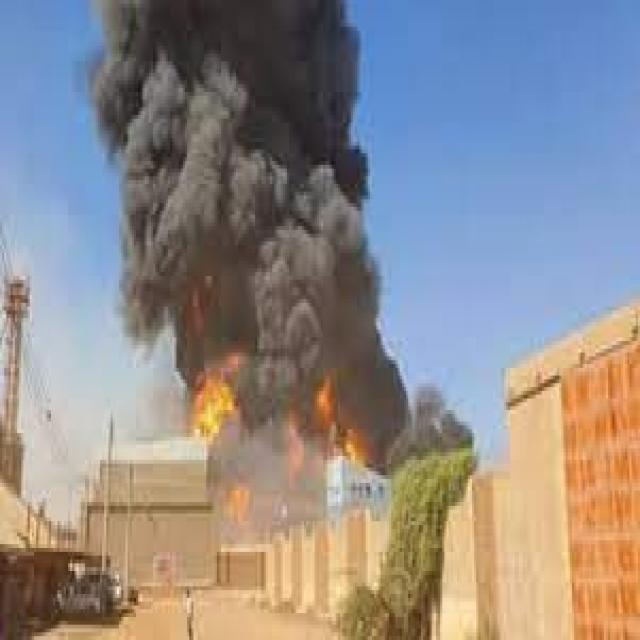fire: (185, 352, 238, 440), (313, 372, 340, 425), (342, 422, 362, 464)
smoke: (94, 4, 404, 375), (374, 326, 478, 468)
